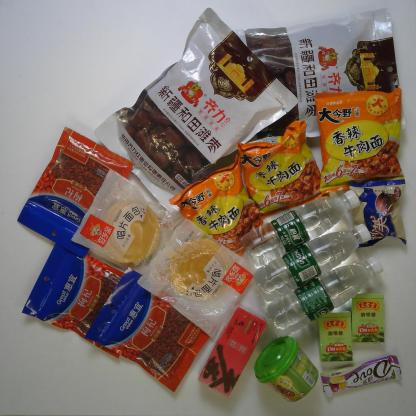Candy: (318, 312, 353, 362), (351, 293, 385, 344)
Chocolate: (320, 355, 402, 397)
Dessert: (136, 217, 259, 343), (70, 169, 189, 280), (349, 178, 407, 247)
Dried Food: (92, 6, 300, 223), (232, 6, 407, 139)
Dried Fruit: (84, 266, 217, 393), (17, 126, 135, 259), (22, 241, 141, 359)
Drink: (264, 256, 384, 338), (240, 190, 362, 268), (253, 223, 372, 302)
Instant Drink: (197, 306, 268, 398), (254, 335, 320, 403)
Instant Noodles: (167, 154, 277, 258), (314, 86, 406, 197), (237, 120, 330, 220)
